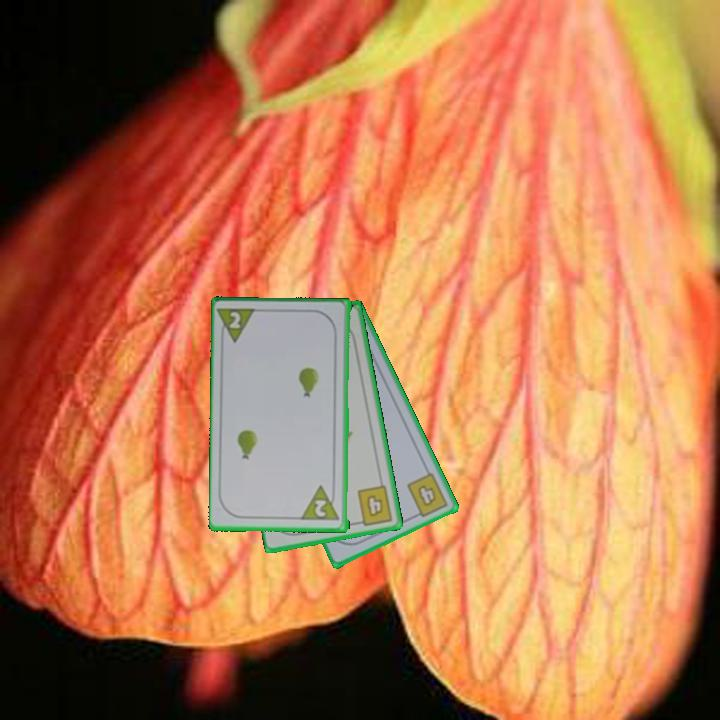2p: (216, 305, 261, 347), (300, 483, 343, 523)
4b: (403, 469, 451, 521), (352, 482, 396, 528)
